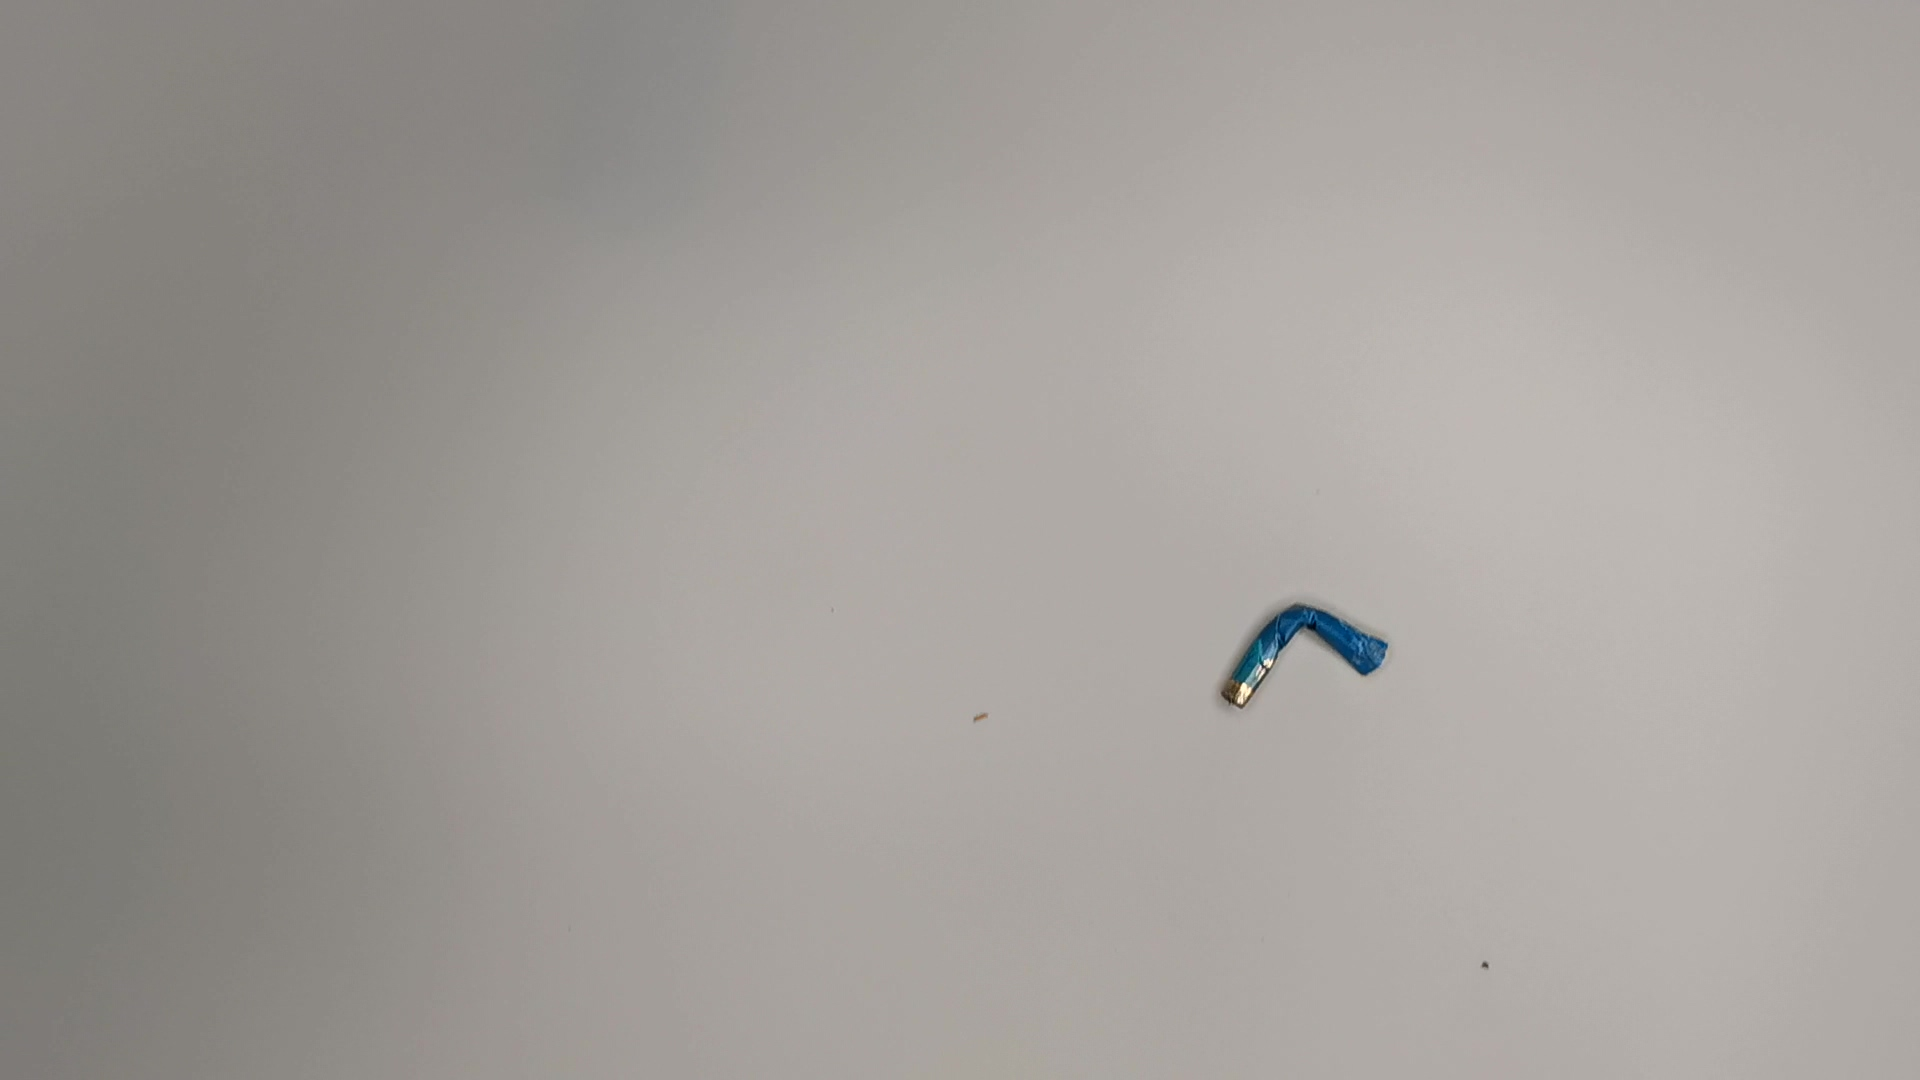cigarette: (1230, 591, 1400, 728)
